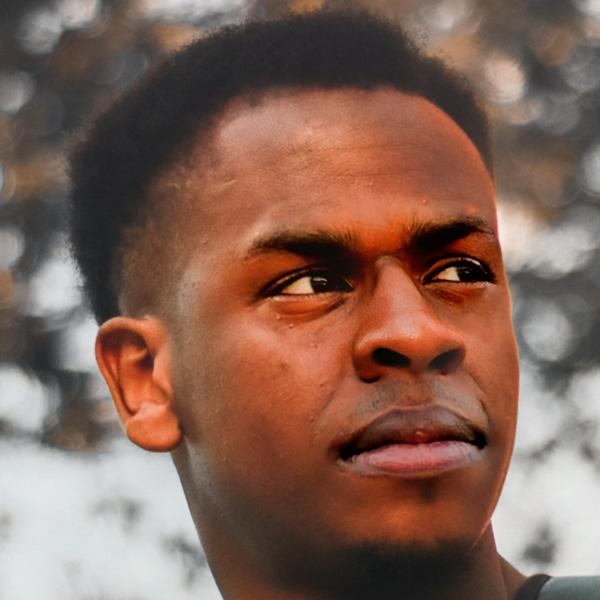Eyes: (250, 253, 362, 318), (418, 244, 502, 296)
